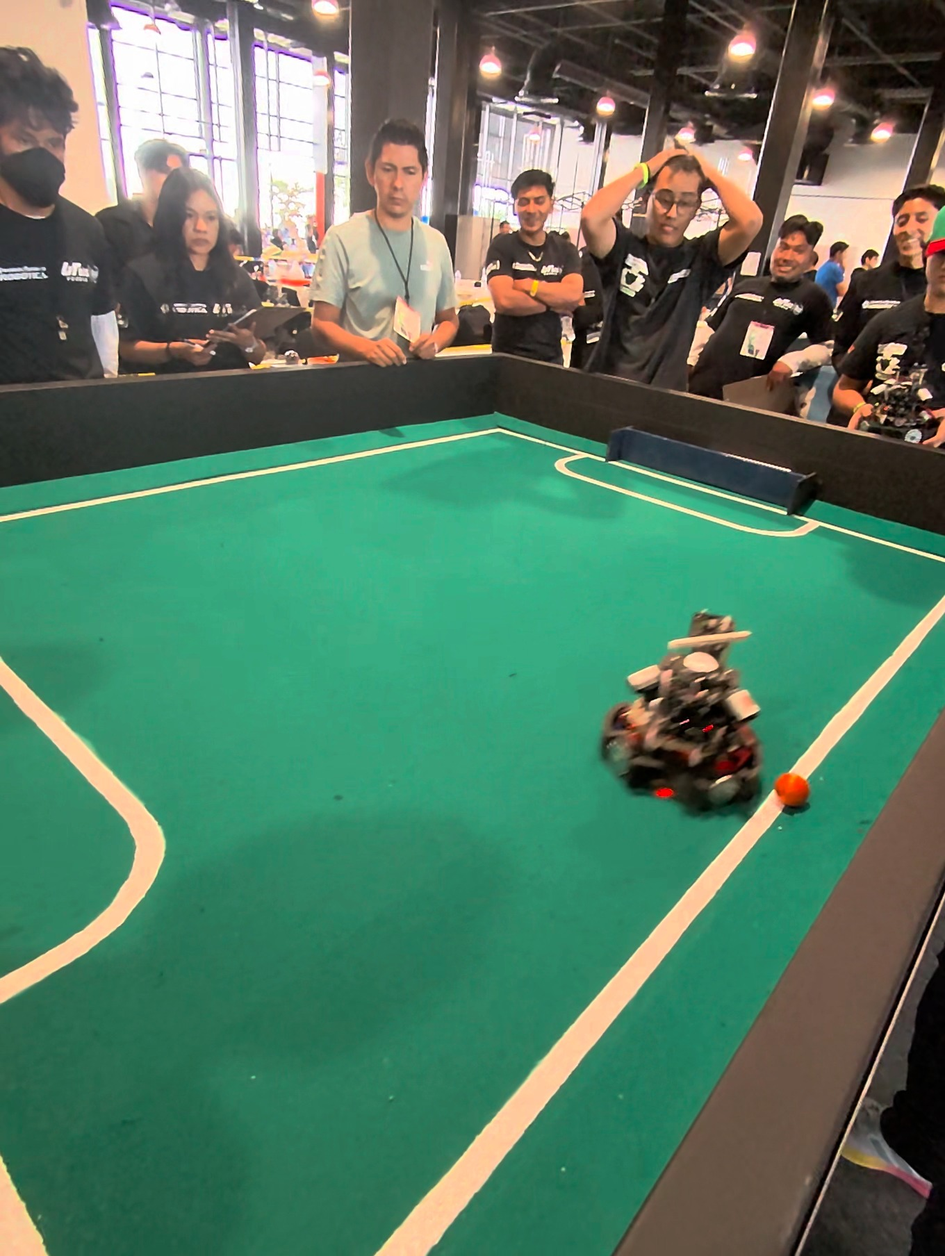Robot: (598, 611, 770, 825)
pelota: (778, 773, 811, 811)
